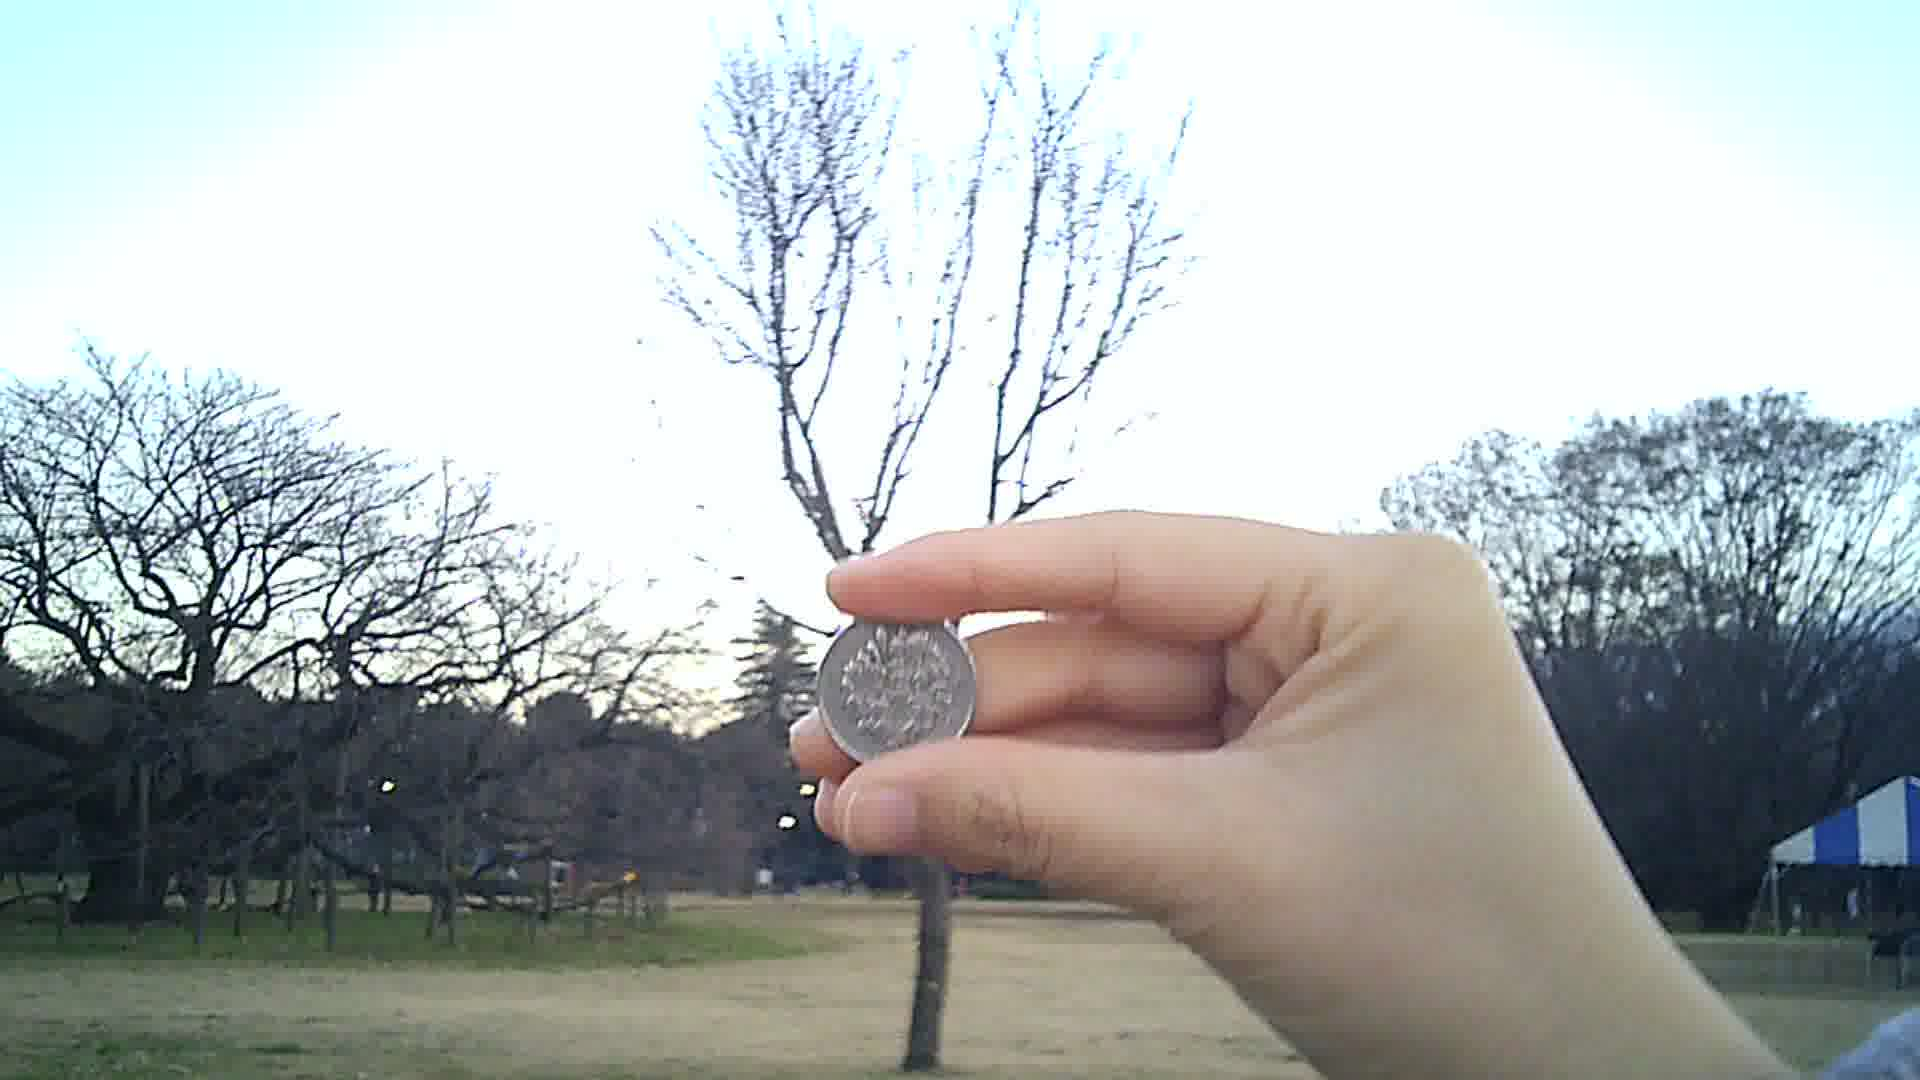100 Yen: (811, 612, 982, 783)
